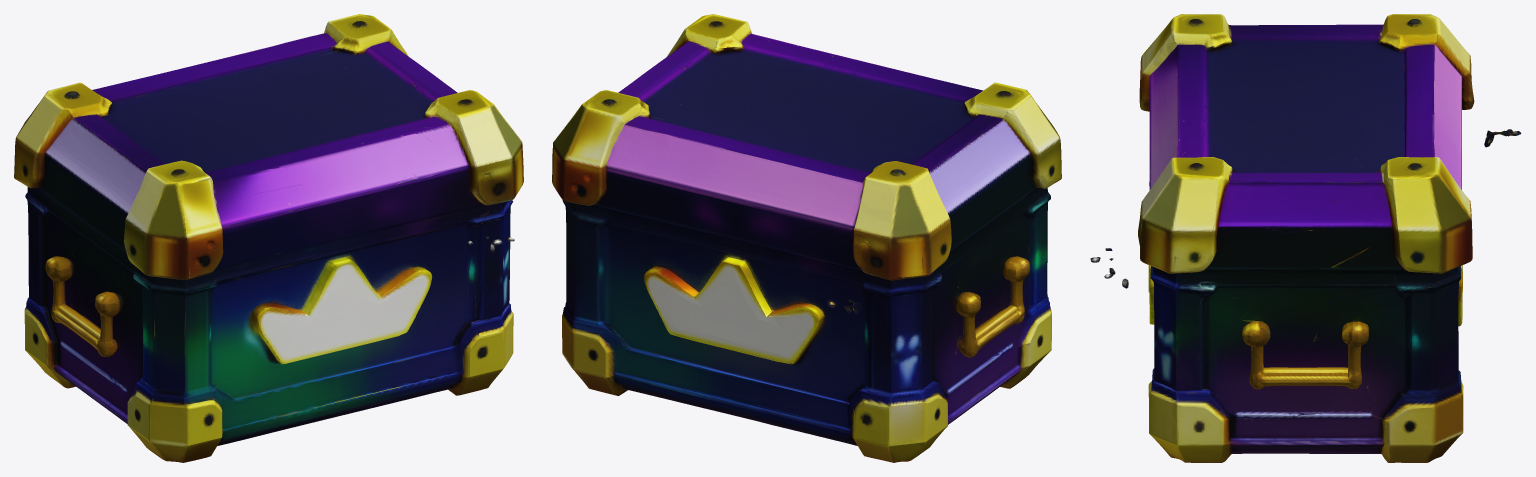
The model's file is cofre.glb.
3 renders of one model, left to right at view 1: azimuth 30°, elevation 25°; view 2: azimuth 150°, elevation 25°; view 3: azimuth 270°, elevation 25°, orthographic. The views are drawn at different scales.
Parts seen in each view (by area): view 1: world; view 2: world; view 3: world.
Part boxes in pixels (left/top/right/bottom): world: left=14, top=14, right=523, bottom=462; world: left=552, top=14, right=1061, bottom=462; world: left=1090, top=14, right=1521, bottom=462.
Bounding box in the file's own units: 0.9995 × 0.6851 × 0.9219.
1 material, 1 textured.
